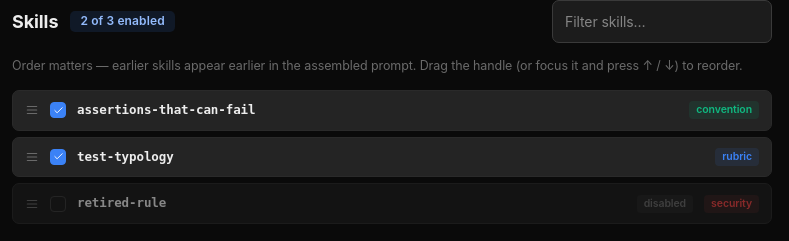
Test: SkillsTab — attach / detach › detaching persists the remaining ids, still in order
Step 1. Click the checkbox named "test-typology" → x=58, y=157, box x1=50 y1=149 x2=66 y2=165
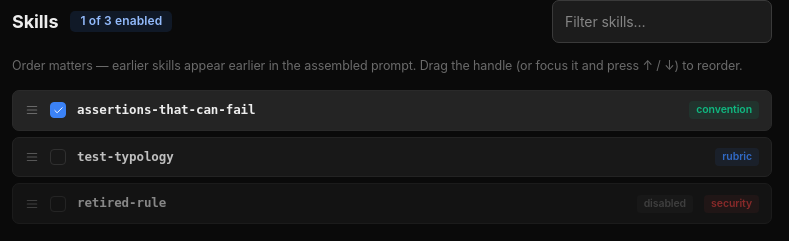
Expected: the text "1 of 3 enabled" is shown, x1=70 y1=11 x2=172 y2=32
